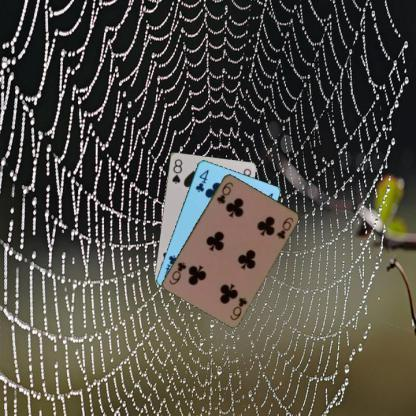4c: (193, 166, 210, 192)
6c: (228, 294, 248, 321), (214, 179, 234, 205)
8s: (169, 156, 183, 185)
